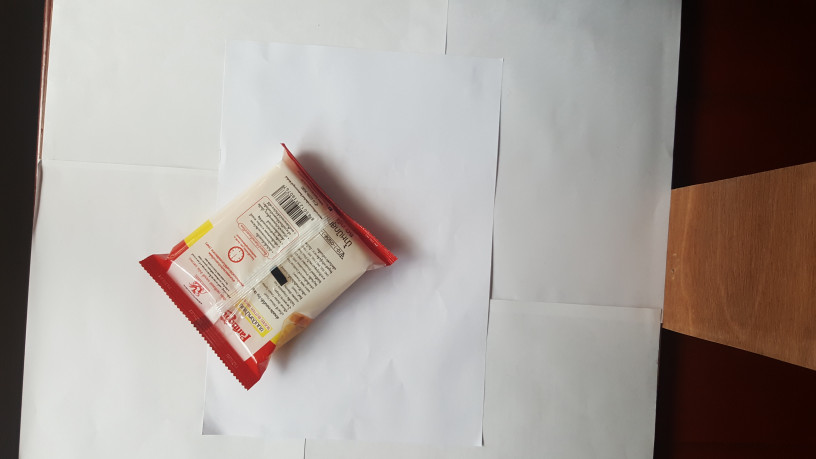farmhouse-bread-butter: (135, 143, 404, 394)
